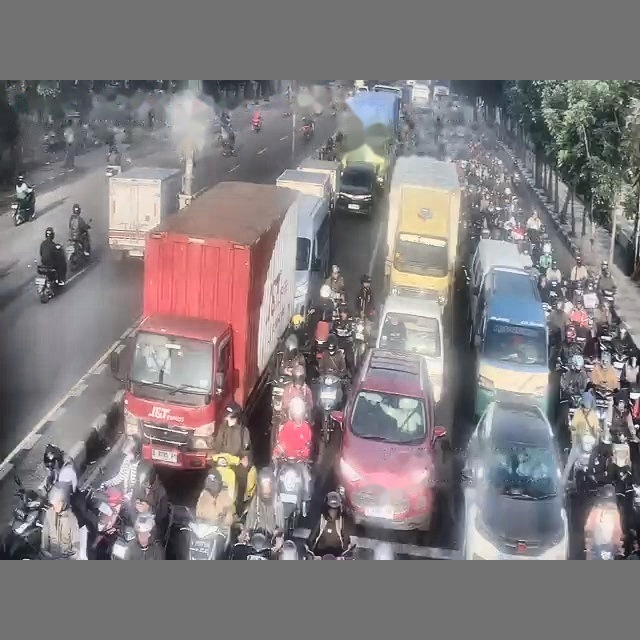Mobil: (332, 348, 446, 531), (463, 401, 568, 559), (376, 295, 444, 402)
Motor: (3, 475, 47, 559), (86, 488, 124, 559), (180, 509, 230, 560), (276, 459, 307, 536), (318, 373, 342, 447), (35, 265, 59, 303), (66, 238, 89, 272), (11, 193, 34, 226)
Truk: (120, 182, 299, 469), (385, 156, 461, 306), (108, 167, 181, 257)
